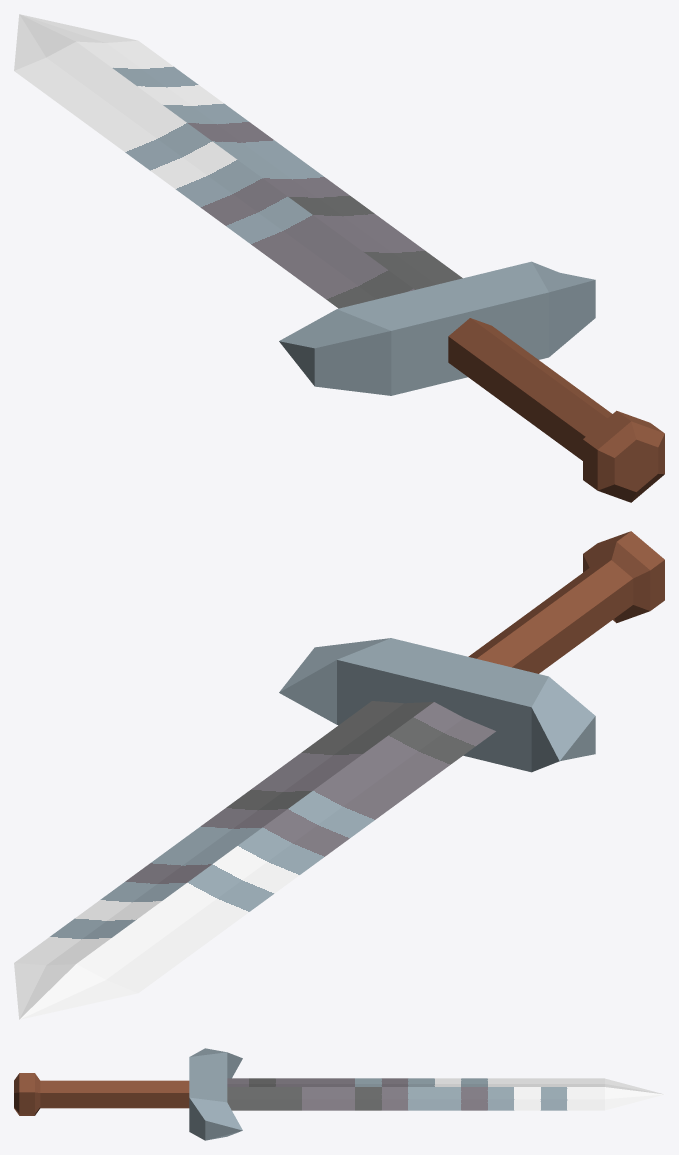
File: sword.glb
3 views of the same model, one above another, from view 1: azimuth 30°, elevation 25°; view 2: azimuth 150°, elevation 25°; view 3: azimuth 270°, elevation 25° (orthographic). The views are drawn at different scales.
Visible parts, largest first — view 1: Sword; view 2: Sword; view 3: Sword.
Part boxes in pixels (<box>): Sword: <box>14,14,664,502</box>; Sword: <box>14,531,664,1019</box>; Sword: <box>14,1048,664,1140</box>.
Size of the model in its own units: 0.3092 by 0.0858 by 1.18.
Materials: 1 (1 with a texture image).
